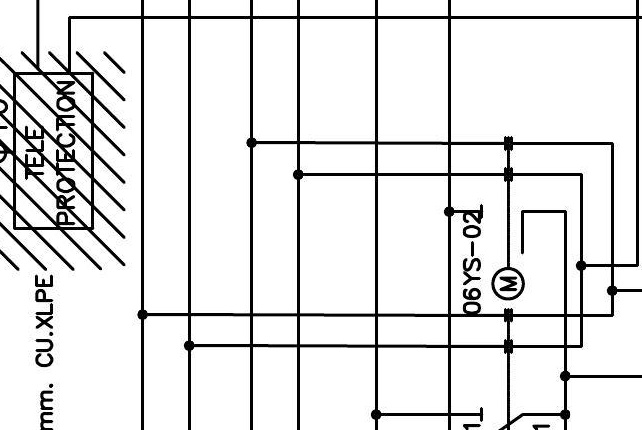115_1way_ds_w_motor: (479, 203, 526, 302)
tele_protection: (10, 69, 97, 233)
